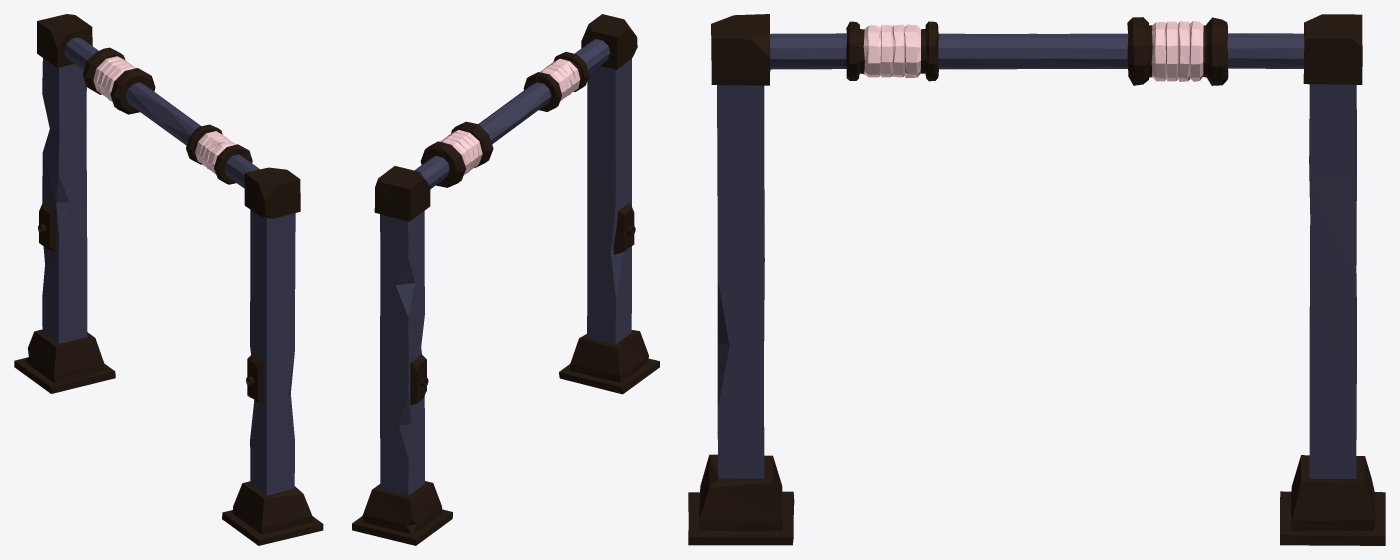
File: SFFA_Forge_Prop_002.fbx
The picture shows the model from 3 angles, left to right: view 1: azimuth 30°, elevation 25°; view 2: azimuth 150°, elevation 25°; view 3: azimuth 270°, elevation 25°; orthographic projection. The views are drawn at different scales.
Parts seen in each view (by area): view 1: SFFA_Forge_Prop_002; view 2: SFFA_Forge_Prop_002; view 3: SFFA_Forge_Prop_002.
Boxes of the visible parts, bbox=[...] form: SFFA_Forge_Prop_002: bbox=[14, 14, 323, 545]; SFFA_Forge_Prop_002: bbox=[352, 14, 659, 545]; SFFA_Forge_Prop_002: bbox=[688, 14, 1385, 545].
Bounding box in the file's own units: 50.81 × 264 × 333.
